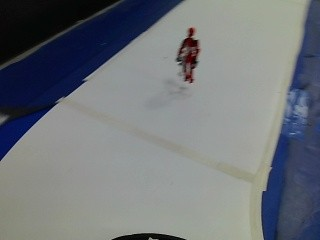pedestrian: (174, 27, 198, 84)
